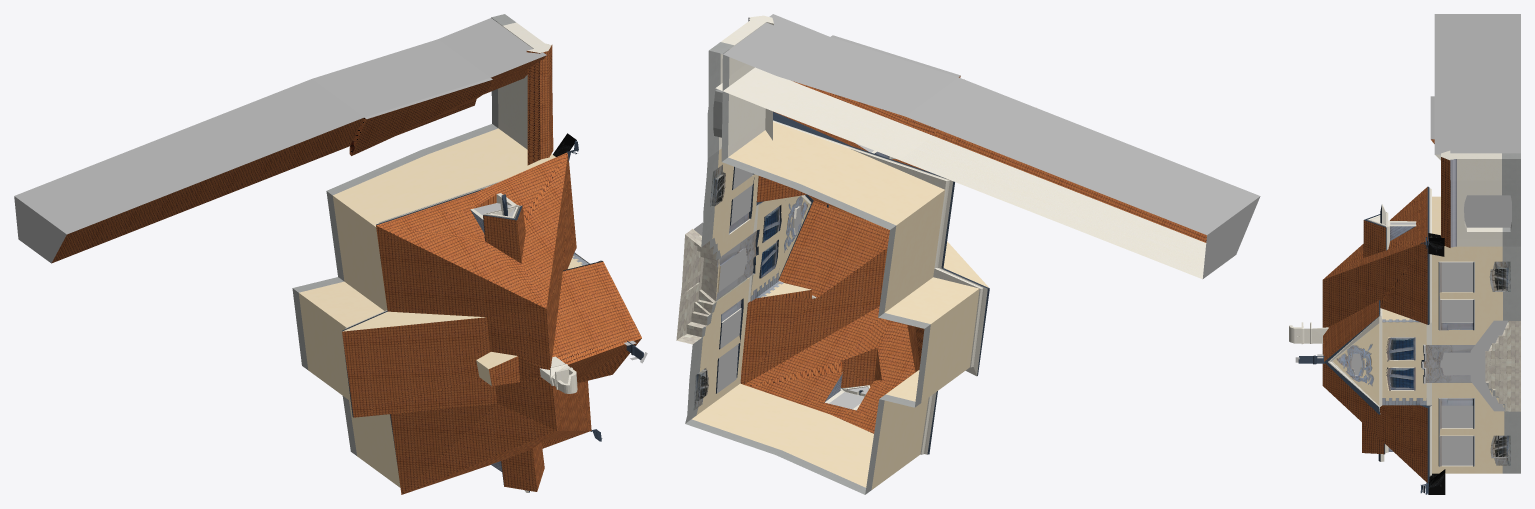
Rendered from Uus_15-1-origo.obj.
3 views of the same model, side by side, from view 1: azimuth 30°, elevation 25°; view 2: azimuth 150°, elevation 25°; view 3: azimuth 270°, elevation 25° (orthographic). The views are drawn at different scales.
Parts seen in each view (by area): view 1: Uus15_1, xxx; view 2: Uus15_1, xxx; view 3: Uus15_1, xxx.
Boxes of the visible parts, x1,y1,x2,y2 form: Uus15_1: (51,14,647,494); xxx: (14,18,546,263); Uus15_1: (676,15,1206,494); xxx: (720,14,1260,278); Uus15_1: (1289,139,1520,494); xxx: (1430,14,1520,154).
Bounding box in the file's own units: 31.25 × 22.5 × 14.45.
